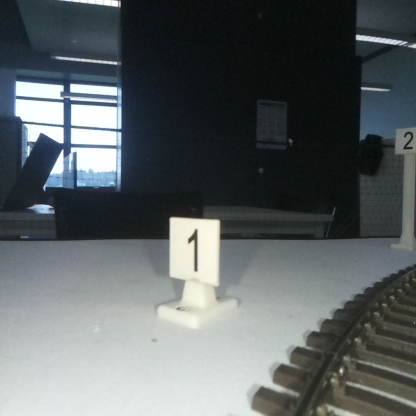white-info-2: (395, 127, 416, 247)
white-stop-1: (169, 219, 219, 317)
